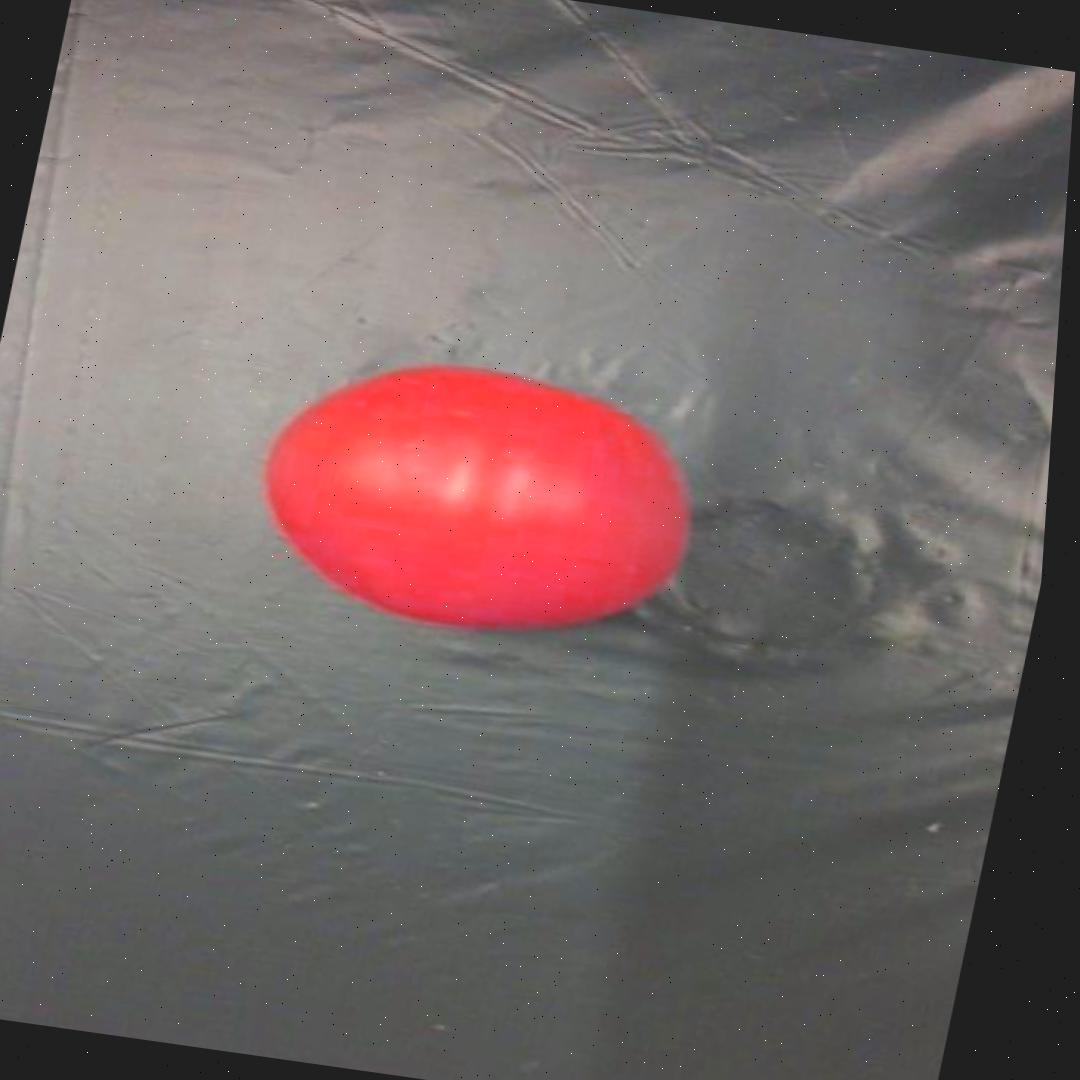matang: (234, 338, 726, 654)
